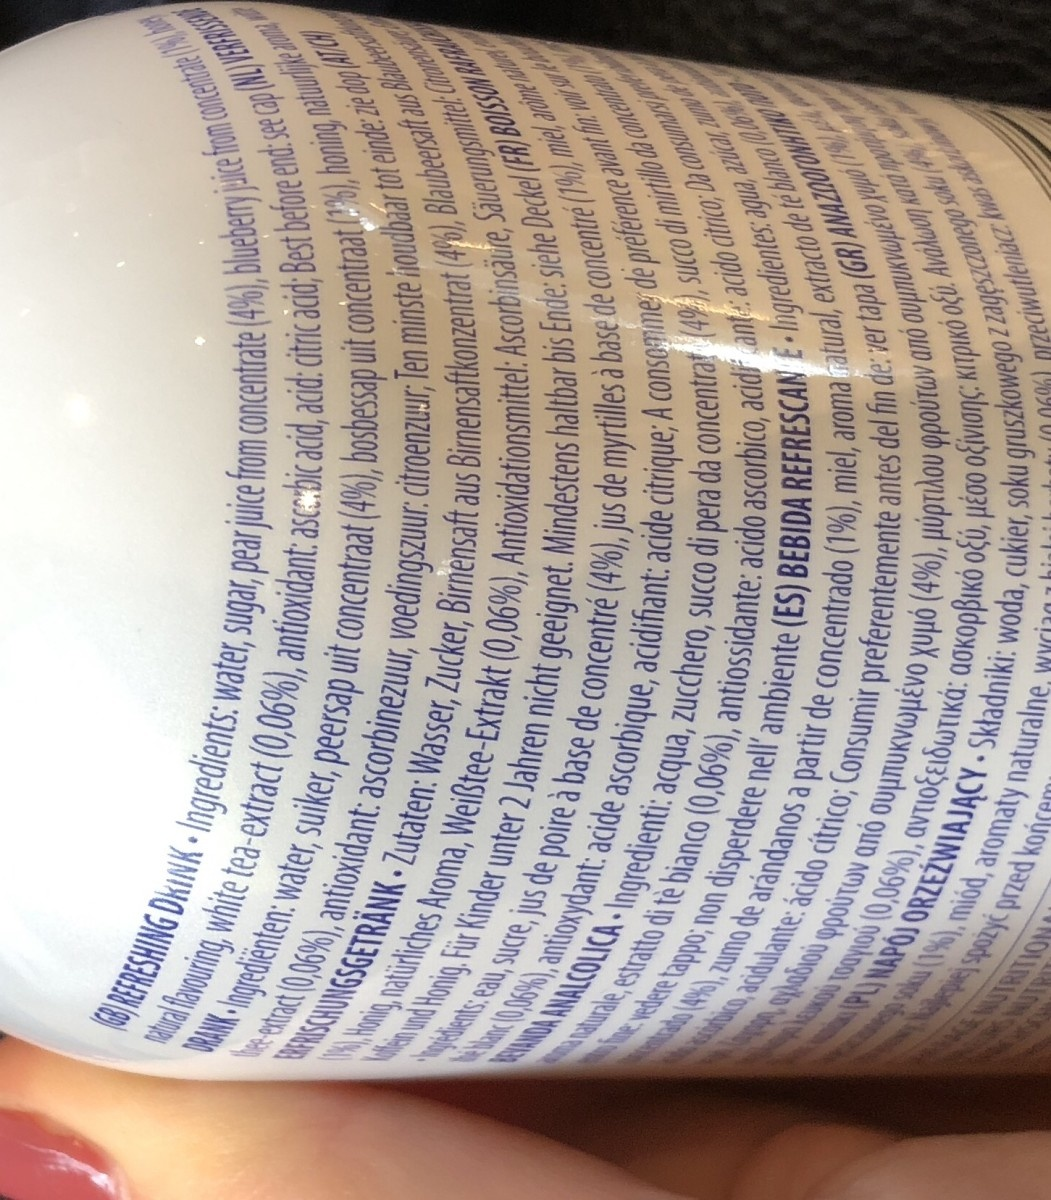ingredients: (65, 1, 1041, 1072)
